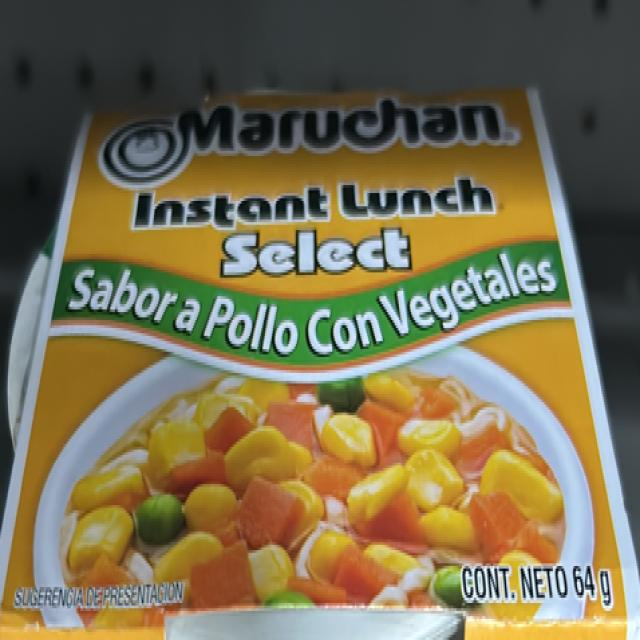maruchanPollo: (82, 83, 570, 630)
